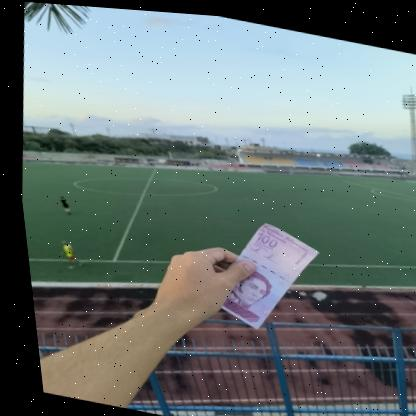one_hundred-front-vef: (201, 208, 323, 337)
